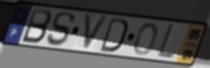B: (20, 7, 54, 45)
D: (98, 17, 129, 54)
L: (155, 23, 176, 61)
O: (133, 22, 160, 57)
S: (45, 12, 77, 48)
V: (80, 12, 111, 53)
